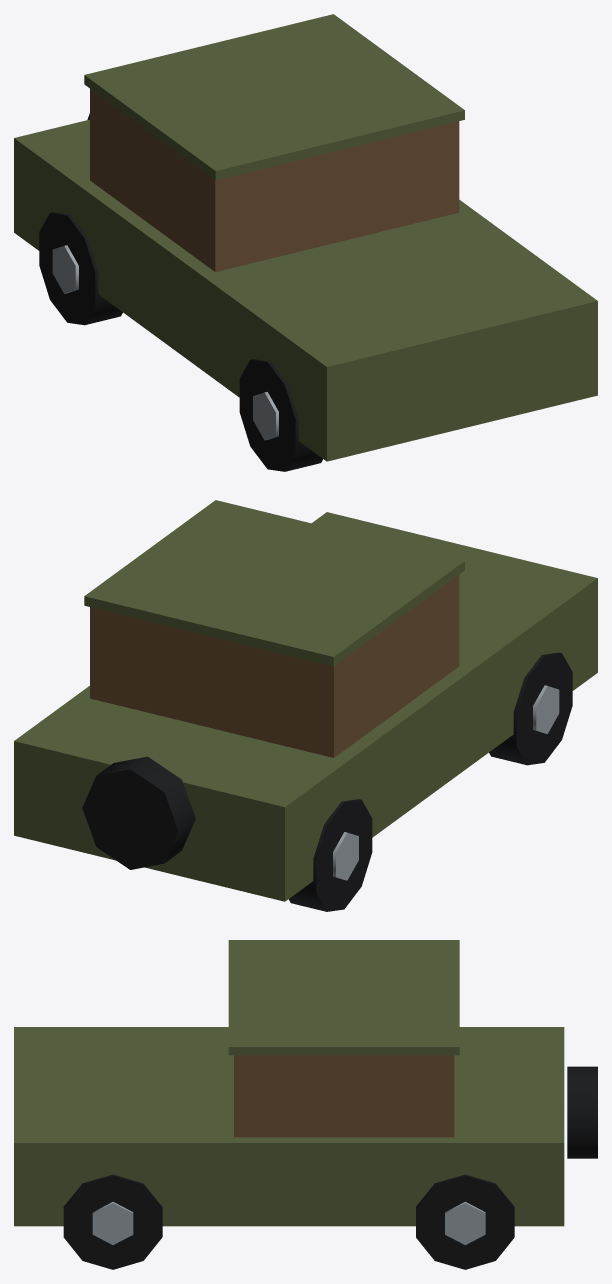
File: veh_ground_jeep_a05.glb
3 views of the same model, one above another, from view 1: azimuth 30°, elevation 25°; view 2: azimuth 150°, elevation 25°; view 3: azimuth 270°, elevation 25° (orthographic). The views are drawn at different scales.
Parts seen in each view (by area): view 1: body, wheel_2, wheel_0; view 2: body, wheel_0, wheel_2; view 3: body, wheel_3, wheel_1.
Part boxes in pixels (x1=…): body: x1=14, y1=14, x2=597, y2=461; wheel_2: x1=239, y1=359, x2=322, y2=471; wheel_0: x1=39, y1=212, x2=122, y2=325; body: x1=14, y1=500, x2=597, y2=901; wheel_0: x1=288, y1=799, x2=372, y2=911; wheel_2: x1=489, y1=652, x2=572, y2=765; body: x1=14, y1=940, x2=597, y2=1226; wheel_3: x1=63, y1=1174, x2=162, y2=1269; wheel_1: x1=416, y1=1174, x2=514, y2=1269.
Size of what is drawn, in the model's own units: 1.88 by 1.57 by 3.82.
